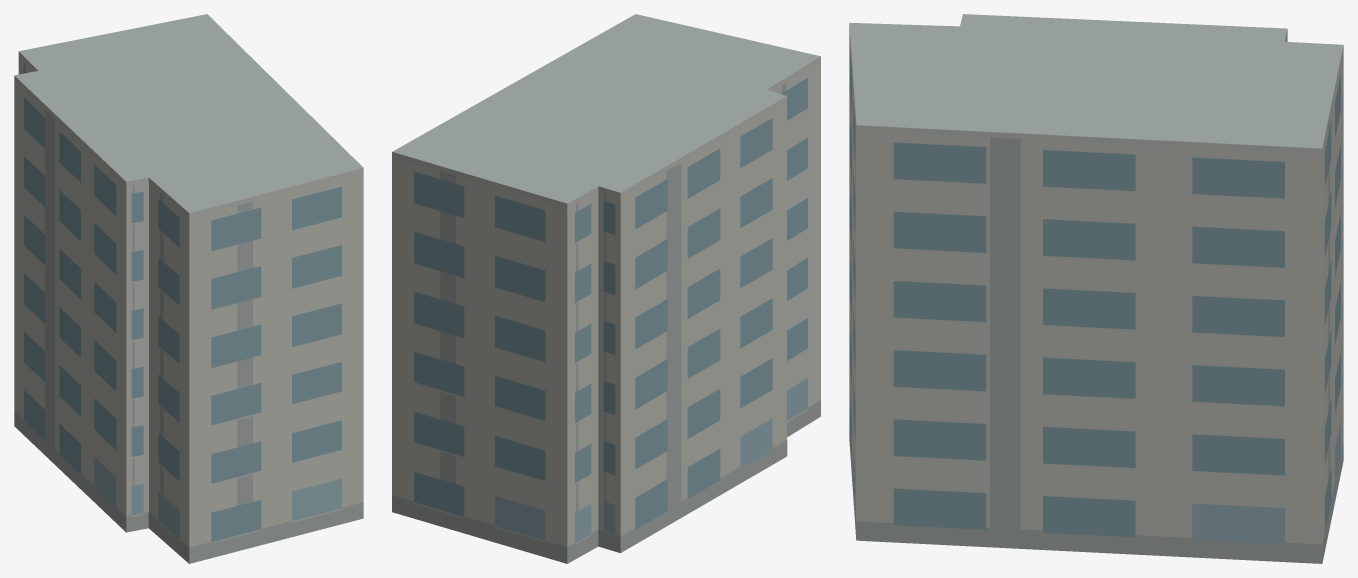
Rendered from survey-upis-32673141.glb.
3 renders of one model, left to right at view 1: azimuth 30°, elevation 25°; view 2: azimuth 150°, elevation 25°; view 3: azimuth 270°, elevation 25°, orthographic. The views are drawn at different scales.
Parts seen in each view (by area): view 1: survey-upis-32673141.tmp; view 2: survey-upis-32673141.tmp; view 3: survey-upis-32673141.tmp.
Part boxes in pixels (x1,y1,x2,y2): survey-upis-32673141.tmp: [14, 14, 363, 563]; survey-upis-32673141.tmp: [392, 14, 820, 563]; survey-upis-32673141.tmp: [849, 14, 1343, 563].
Size of the model in its own units: 12.38 by 17.8 by 19.21.
